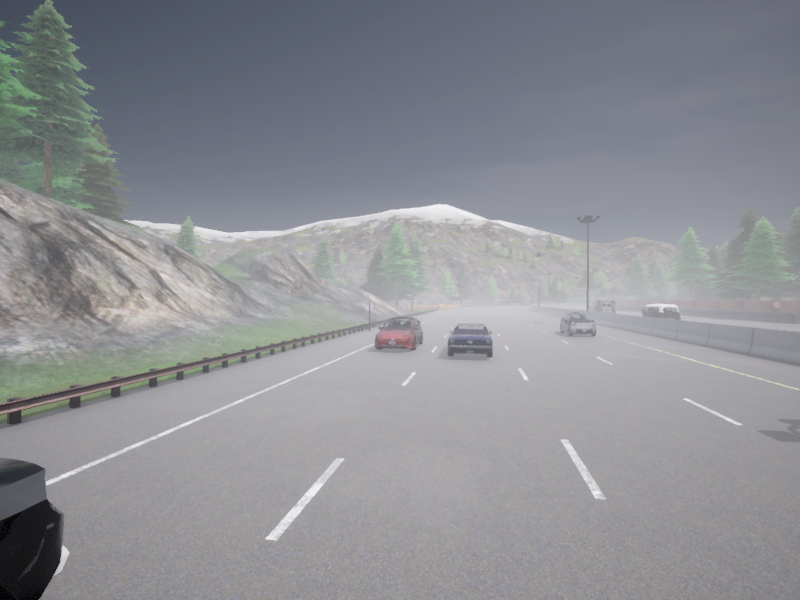vehicle: (0, 458, 69, 599), (375, 317, 422, 350), (448, 323, 492, 357), (560, 313, 595, 336), (642, 304, 679, 319), (589, 300, 615, 313)
